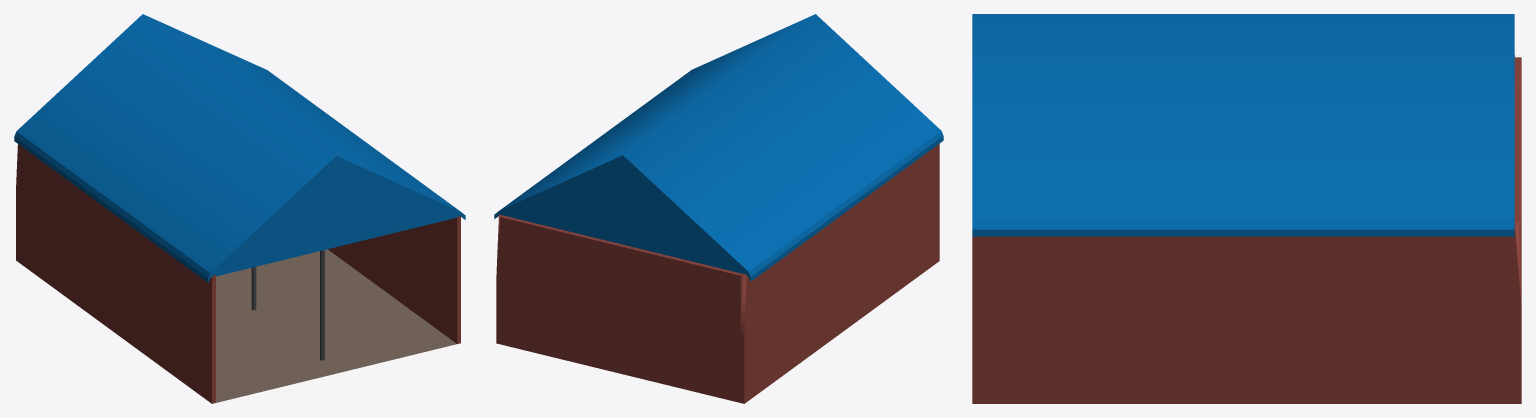
Rendered from dairy farm.fbx.
3 renders of one model, left to right at view 1: azimuth 30°, elevation 25°; view 2: azimuth 150°, elevation 25°; view 3: azimuth 270°, elevation 25°, orthographic. The views are drawn at different scales.
Parts seen in each view (by area): view 1: pPlane2; view 2: pPlane2; view 3: pPlane2.
Boxes of the visible parts, bbox=[...] form: pPlane2: bbox=[14, 14, 465, 403]; pPlane2: bbox=[494, 14, 943, 403]; pPlane2: bbox=[972, 14, 1521, 403].
Size of the model in its own units: 57.16 by 46.48 by 75.42.
